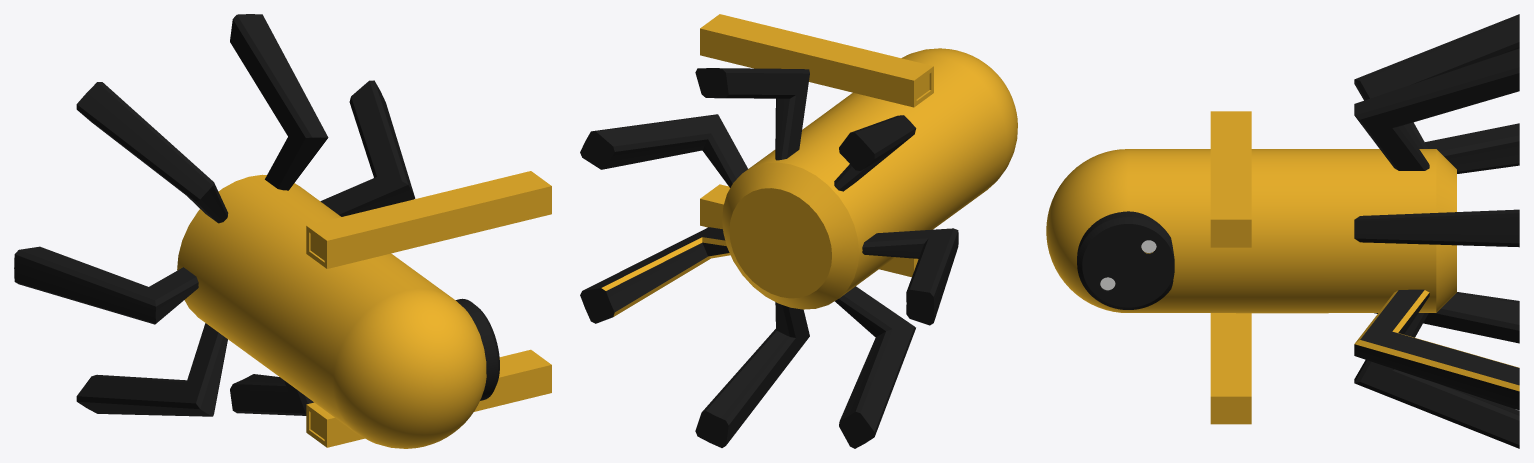
The model's file is Crewmate #2.fbx.
3 renders of one model, left to right at view 1: azimuth 30°, elevation 25°; view 2: azimuth 150°, elevation 25°; view 3: azimuth 270°, elevation 25°, orthographic. The views are drawn at different scales.
Visible parts, largest first — view 1: Body1, Body3, Body7, Body5, Body14, Body6, Body8, Body4, Body10, Body2; view 2: Body1, Body3, Body8, Body14, Body10, Body9, Body7, Body5, Body6, Body4; view 3: Body1, Body7, Body9, Body2, Body3, Body10, Body8, Body6, Body4, Body14, Body5.
Part boxes in pixels (x1,y1,x2,y2): Body1: [177, 174, 486, 448]; Body3: [306, 171, 551, 268]; Body7: [230, 14, 328, 190]; Body5: [14, 246, 198, 324]; Body14: [76, 323, 227, 416]; Body6: [76, 82, 228, 223]; Body8: [320, 80, 415, 216]; Body4: [306, 349, 551, 447]; Body10: [230, 374, 313, 415]; Body2: [455, 298, 499, 400]; Body1: [722, 48, 1017, 309]; Body3: [700, 14, 933, 107]; Body8: [580, 114, 747, 187]; Body14: [835, 286, 915, 448]; Body10: [695, 302, 809, 447]; Body9: [580, 227, 730, 323]; Body7: [695, 68, 809, 160]; Body5: [862, 228, 958, 325]; Body6: [834, 115, 916, 191]; Body4: [700, 184, 918, 277]; Body1: [1046, 149, 1456, 313]; Body7: [1354, 48, 1519, 170]; Body9: [1354, 289, 1519, 410]; Body2: [1077, 211, 1174, 309]; Body3: [1210, 111, 1251, 247]; Body10: [1354, 313, 1519, 448]; Body8: [1354, 209, 1519, 247]; Body6: [1354, 14, 1519, 148]; Body4: [1210, 313, 1251, 424]; Body14: [1374, 292, 1519, 343]; Body5: [1425, 123, 1519, 173].
Size of the model in its own units: 2121 by 2119 by 2306.
